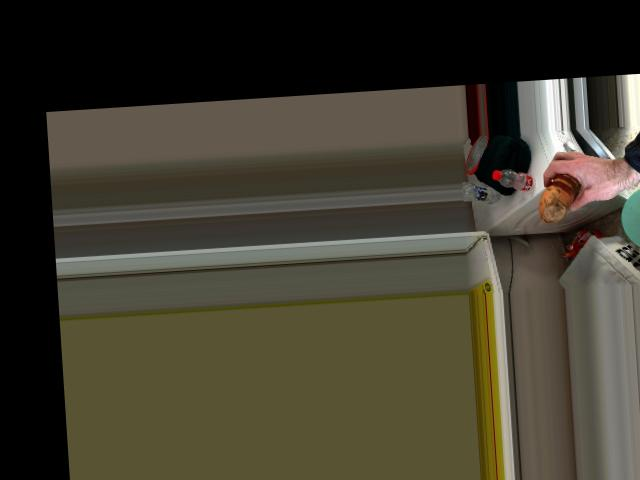sweet_potato: (534, 176, 581, 222)
